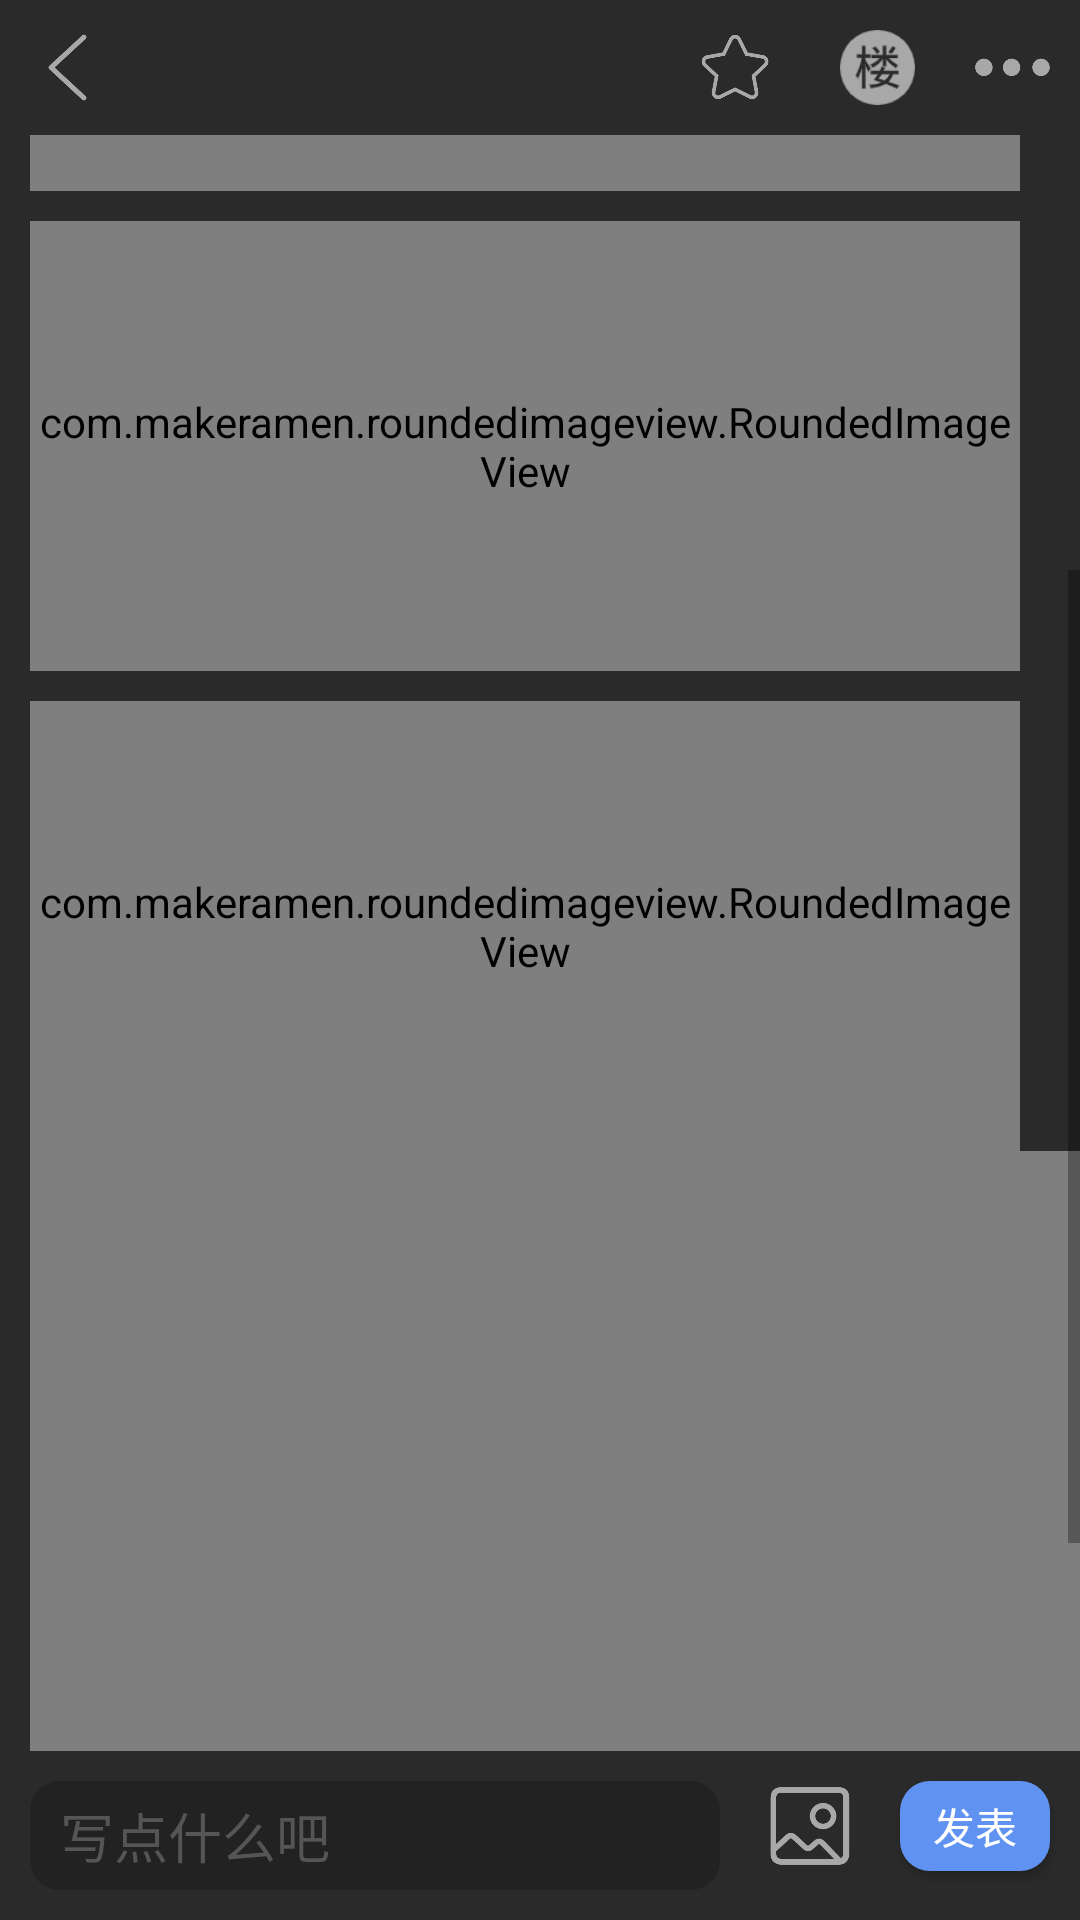

Icon bounding boxes for this 1080*1920 phone screenshot, format rect(x1, y1, x2, y2):
ba home gengduo: rect(975, 58, 1050, 76)
ba home return: rect(48, 34, 87, 101)
collection: rect(702, 35, 769, 99)
photo: rect(770, 1787, 849, 1865)
zhikanlouzhu no: rect(840, 30, 915, 105)
